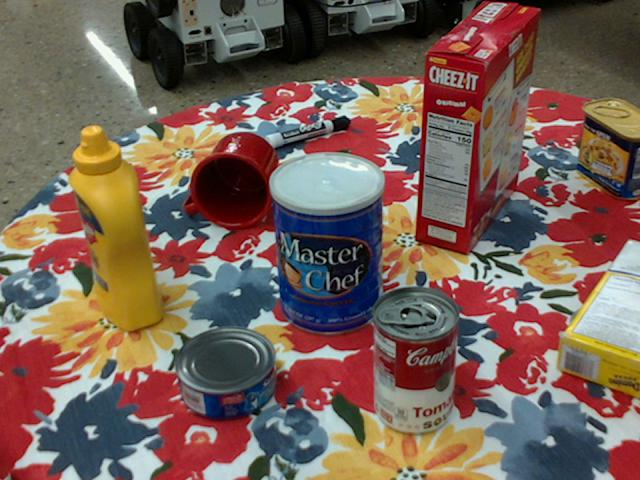cracker_box: (419, 3, 540, 253)
gelatin_box: (420, 104, 489, 154)
large_marker: (263, 114, 348, 148)
master_chef_can: (268, 152, 383, 336)
mug: (183, 131, 277, 230)
mustard_bottle: (68, 127, 164, 331)
potted_meat_can: (576, 97, 639, 198)
sugar_box: (557, 239, 639, 397)
tomato_soup_can: (372, 285, 459, 434)
tuna_fish_can: (171, 326, 274, 419)
